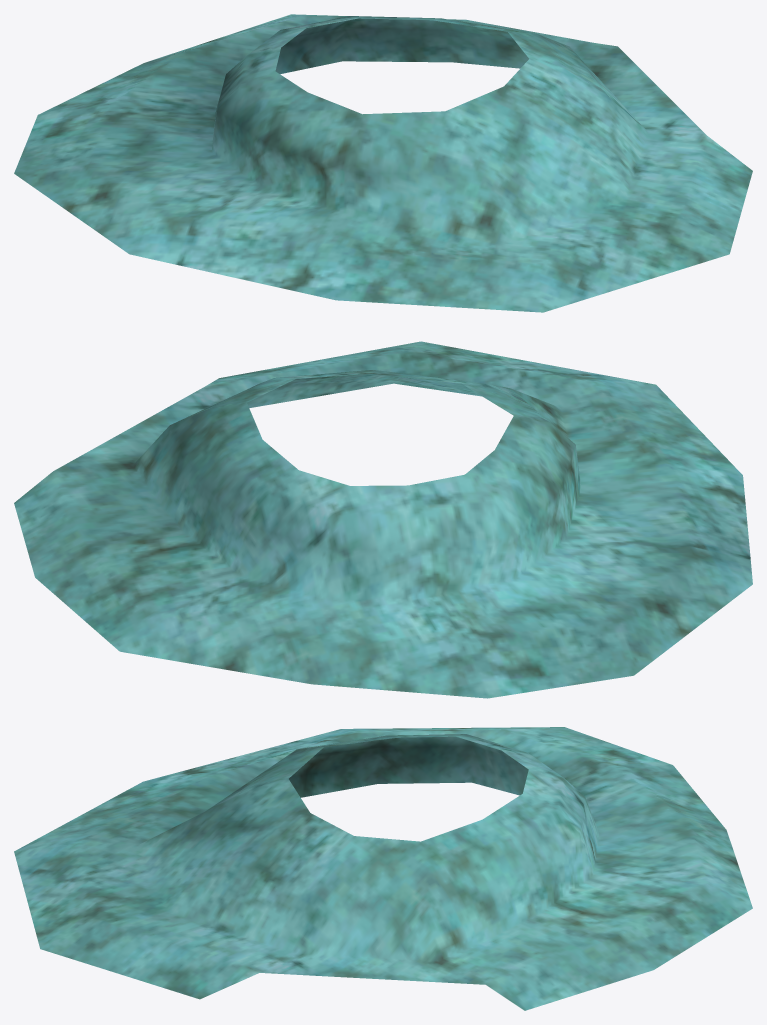
File: EKH_CAVERNS_PS_CA_OBJECT30.fbx
The picture shows the model from 3 angles, top to bottom: view 1: azimuth 30°, elevation 25°; view 2: azimuth 150°, elevation 25°; view 3: azimuth 270°, elevation 25°; orthographic projection. The views are drawn at different scales.
Parts seen in each view (by area): view 1: EKH_CAVERNS_PS_CA_OBJECT30; view 2: EKH_CAVERNS_PS_CA_OBJECT30; view 3: EKH_CAVERNS_PS_CA_OBJECT30.
Part boxes in pixels (x1=…): EKH_CAVERNS_PS_CA_OBJECT30: x1=14, y1=14, x2=752, y2=312; EKH_CAVERNS_PS_CA_OBJECT30: x1=14, y1=341, x2=752, y2=698; EKH_CAVERNS_PS_CA_OBJECT30: x1=14, y1=727, x2=752, y2=1010.
Bounding box in the file's own units: 82976 × 12500 × 91275.
Materials: 1 (1 with a texture image).
